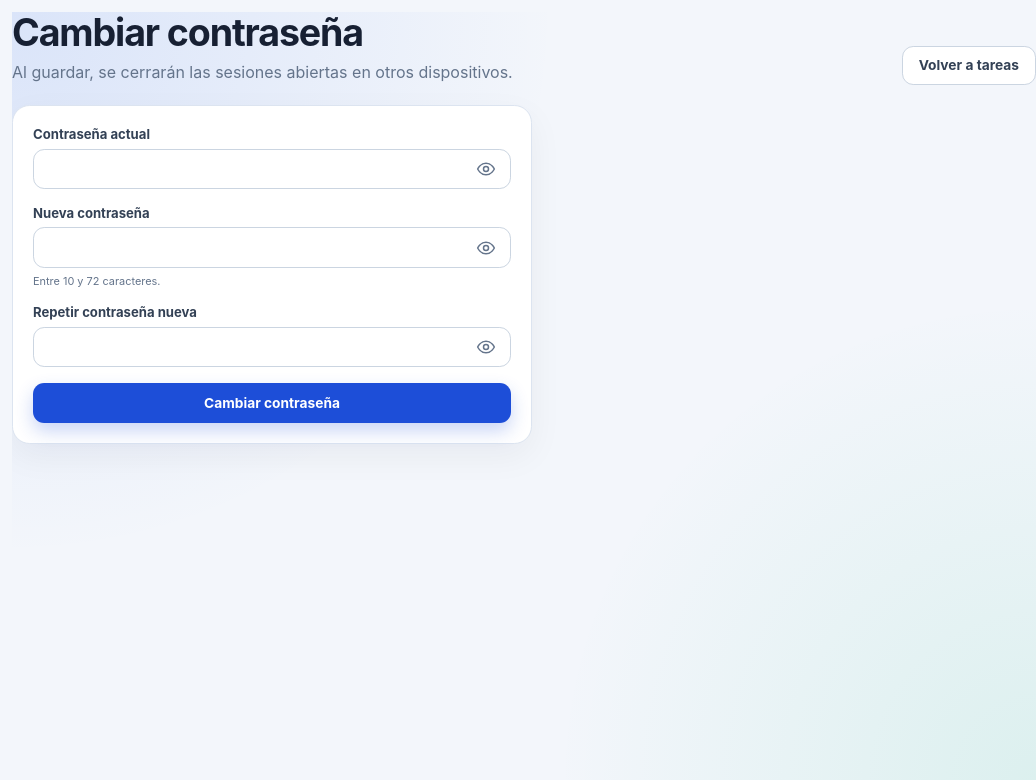
Test: ChangePasswordPage › muestra errores de la API y conserva los datos para reintentar
This screenshot has width=1036, height=780.
Type "actual123" into the password field labelled "Contraseña actual".
click(272, 169); type("actual123")  # box [33,149,511,189]
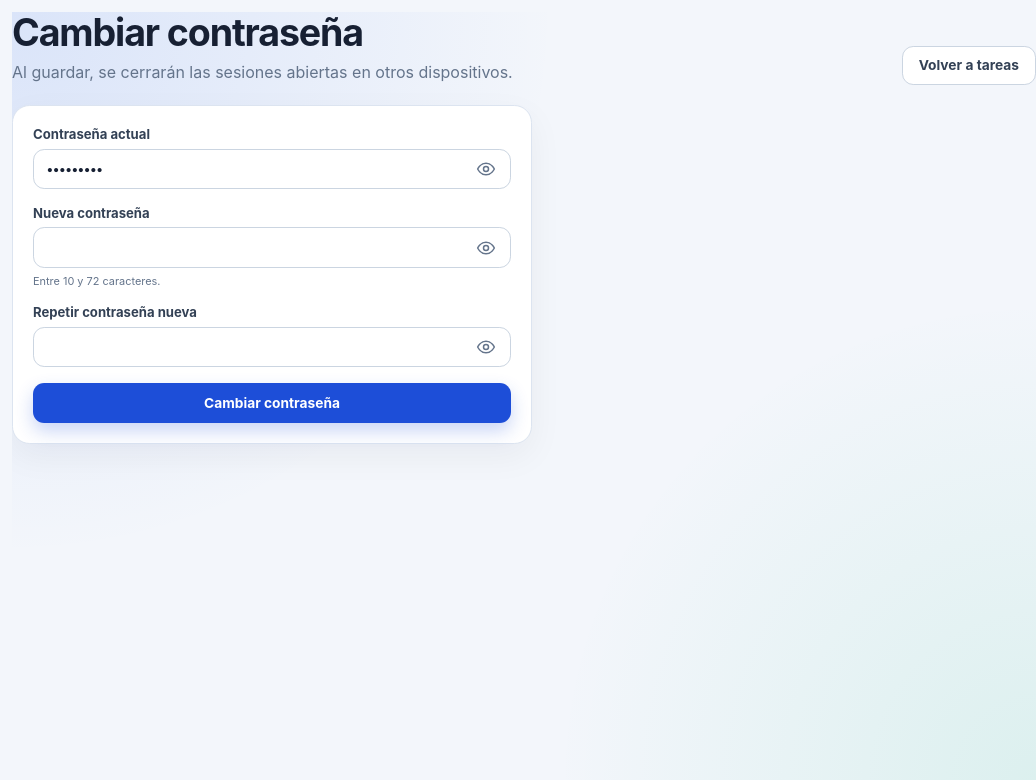
Type "password123" into the password field labelled "Nueva contraseña Entre 10 y 72 caracteres.".
click(272, 248); type("password123")  # box [33,228,511,268]
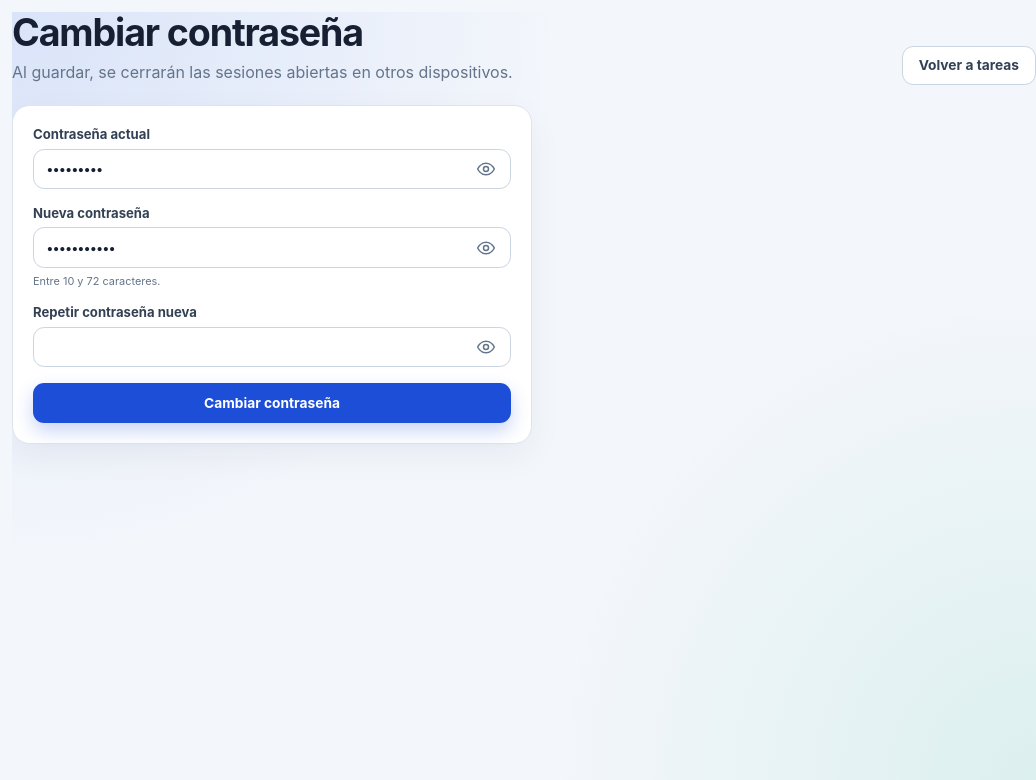
Type "password123" into the password field labelled "Repetir contraseña nueva".
click(272, 347); type("password123")  # box [33,327,511,367]
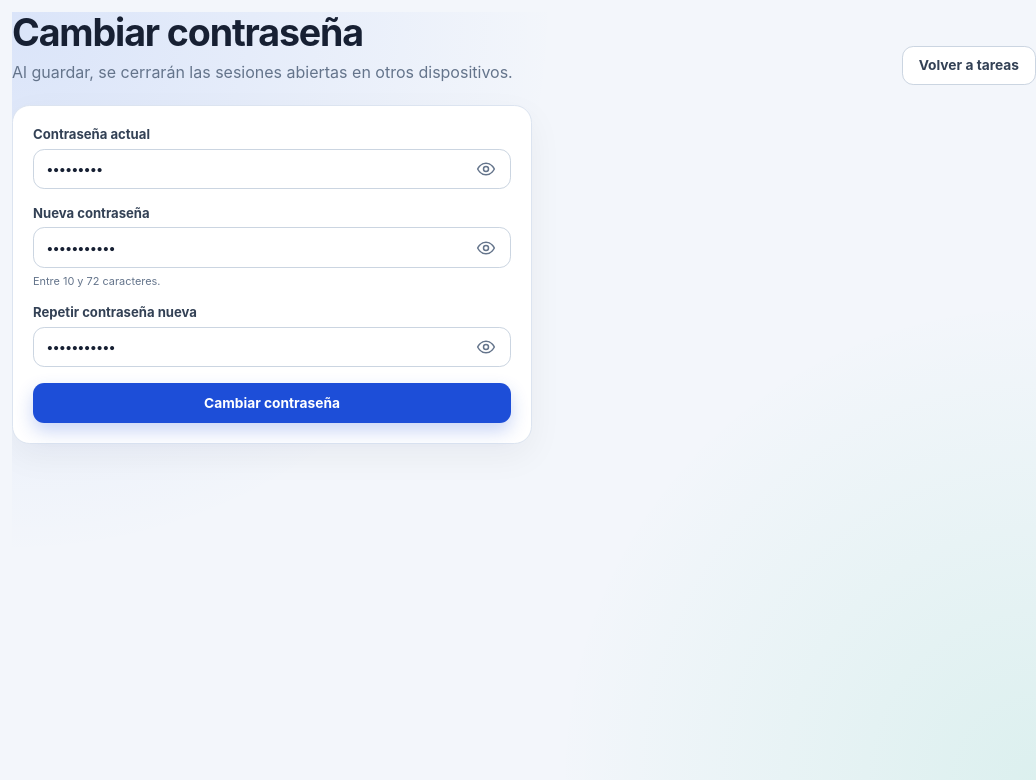
Click the button "Cambiar contraseña".
click(272, 403)  # box [33,383,511,423]
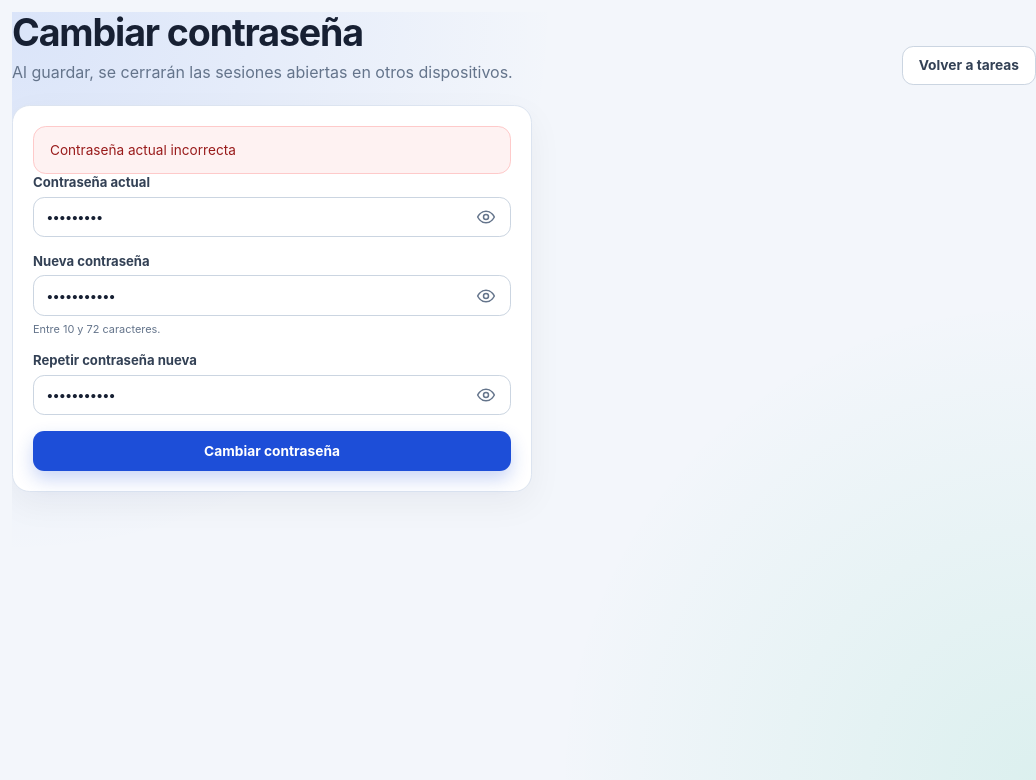
Expected: the button "Cambiar contraseña" is enabled, [33,431,511,471]
Expected: the message reads "Contraseña actual incorrecta", [50,142,236,158]
